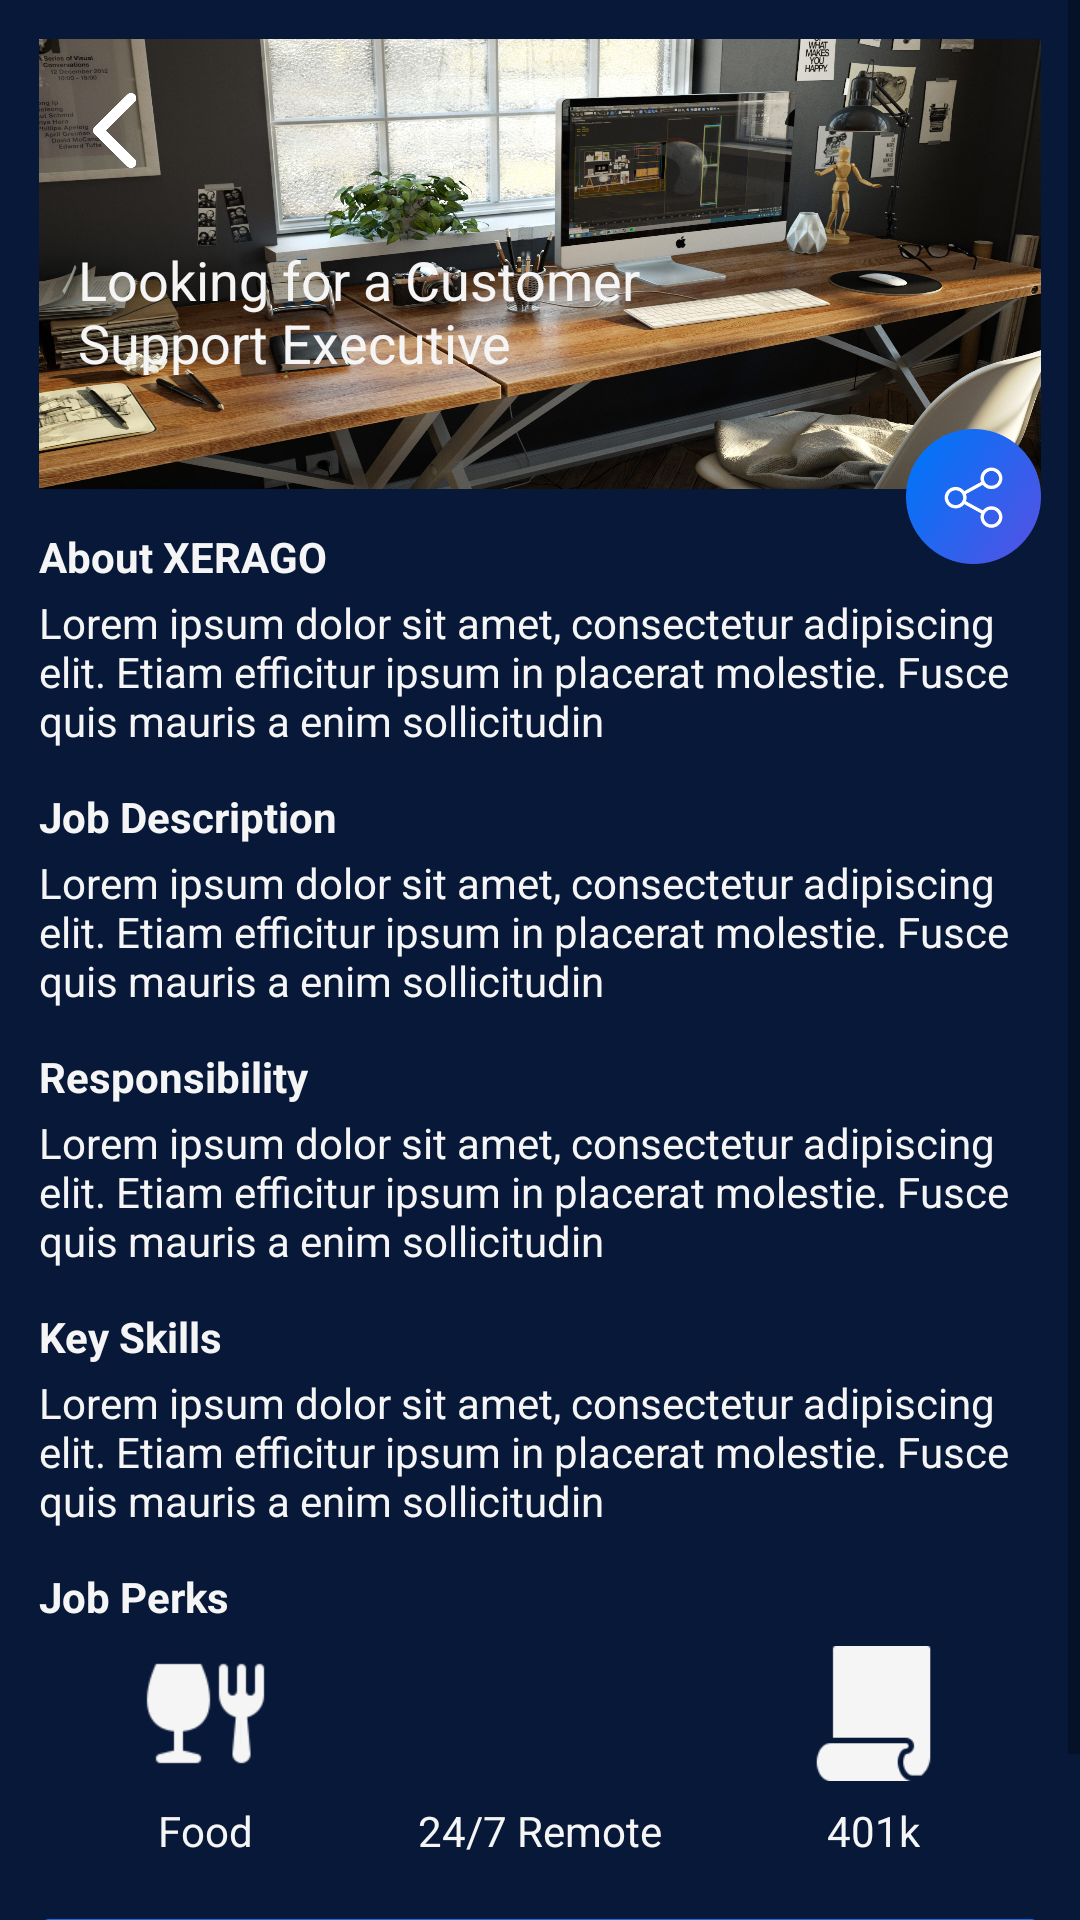

Locate icon controls on the screen. Image size 1080*1920, boxes as Rect(x1, y1, x2, y2).
left back: Rect(78, 78, 161, 180)
share: Rect(906, 429, 1041, 564)
